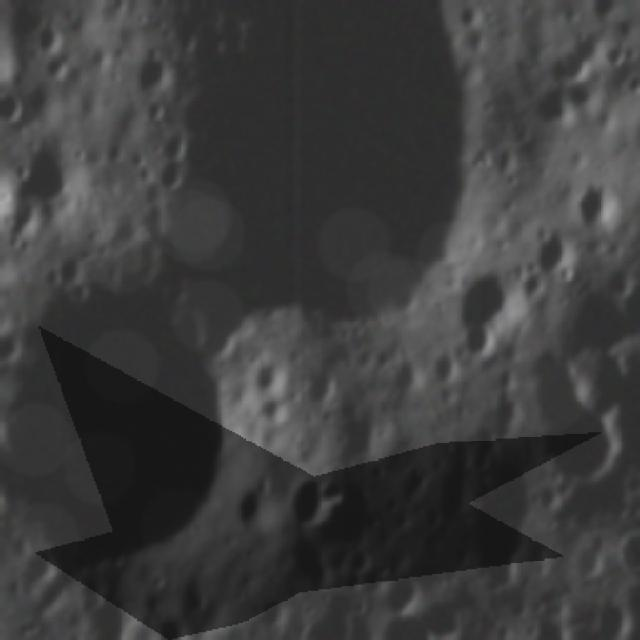crater: (0, 267, 345, 598), (155, 0, 473, 305), (10, 128, 95, 212), (460, 262, 528, 332), (290, 592, 364, 640), (530, 225, 584, 287), (73, 587, 135, 640), (575, 173, 630, 230), (282, 472, 336, 530), (229, 482, 283, 540), (376, 351, 422, 400), (380, 565, 422, 618), (248, 349, 288, 402), (132, 50, 174, 99), (422, 594, 464, 640), (592, 598, 637, 640), (522, 611, 580, 640), (302, 372, 340, 416), (427, 343, 465, 386), (254, 391, 292, 432), (30, 14, 65, 57), (601, 263, 639, 300), (572, 542, 602, 584), (614, 527, 640, 571), (157, 126, 188, 162), (0, 84, 25, 122), (601, 38, 624, 72), (623, 69, 640, 102), (430, 638, 468, 640)
